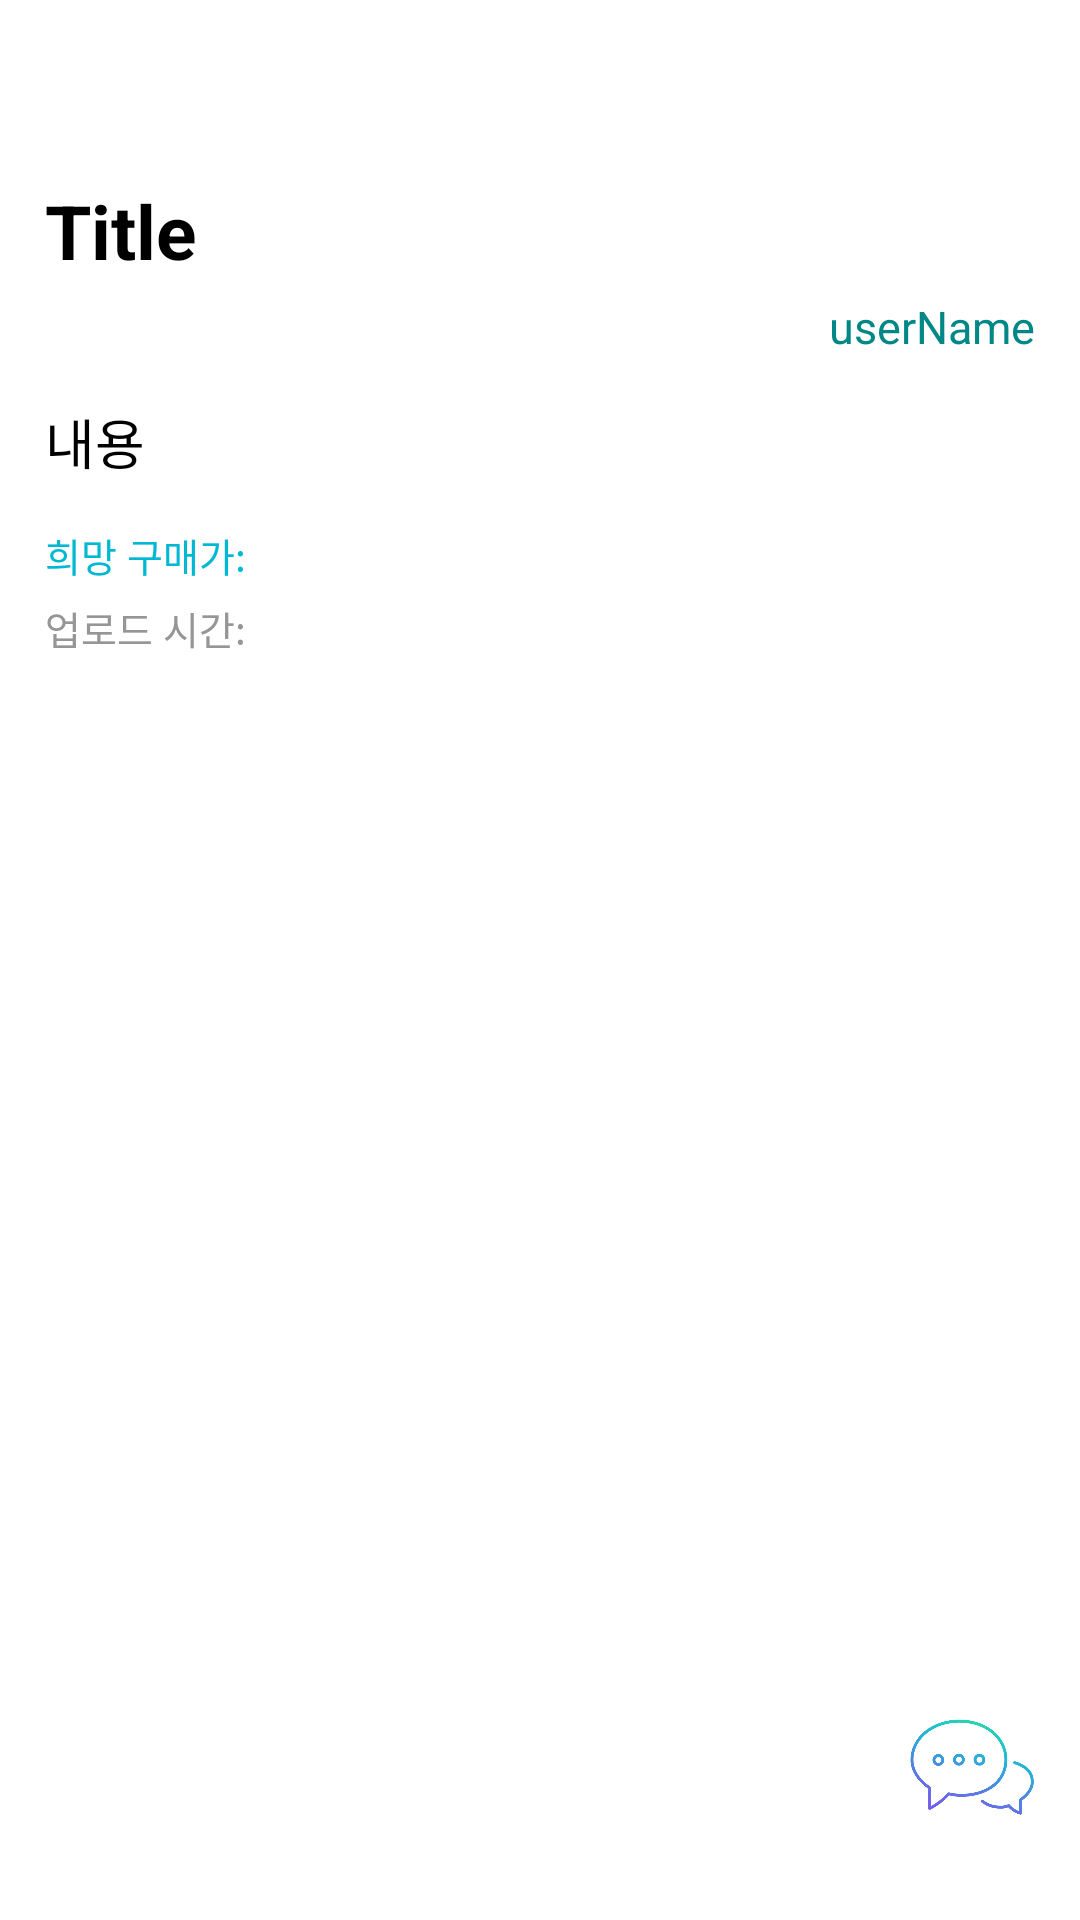

Where to tap for icons on this 1080px x 1920px app screen, as [x,y]:
chat: [972,1767]
